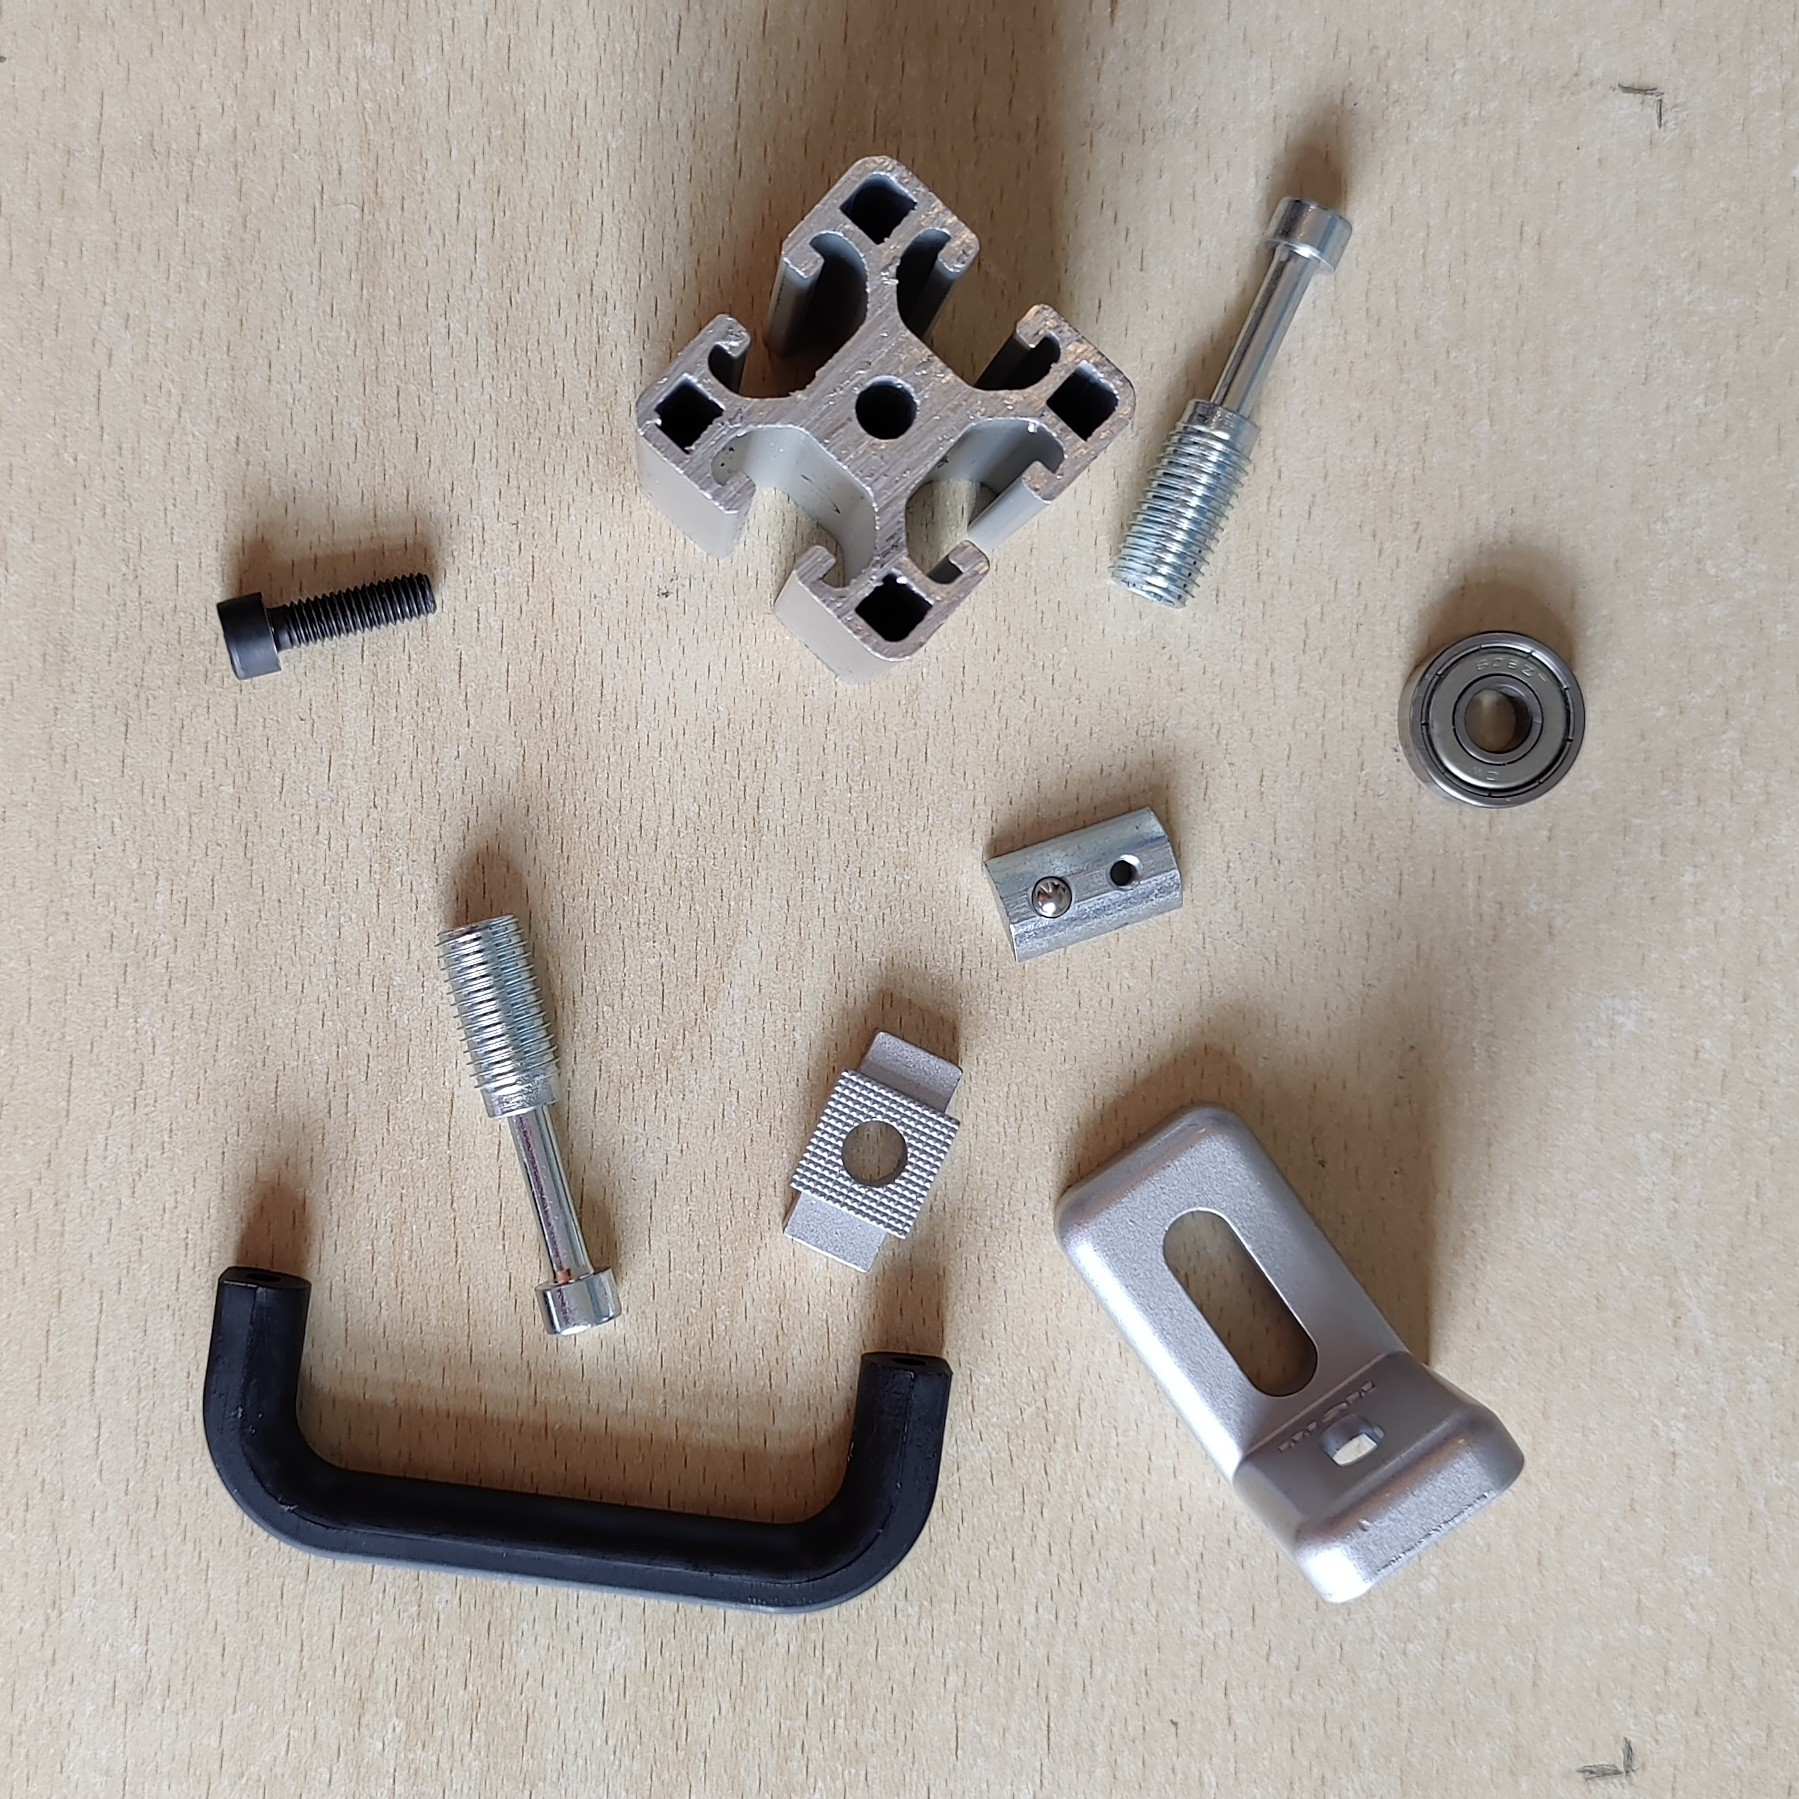Aluminium Extension: (633, 153, 1137, 689)
Ball Bearing: (1397, 629, 1590, 811)
Multiwinkel: (1051, 1102, 1529, 1608)
Pull Handle: (201, 1265, 952, 1618)
Shoulder Socket Head Cap Screw: (1105, 193, 1357, 613), (432, 908, 623, 1338)
Socket Head Cap Screw: (216, 567, 438, 680)
T Nut Square: (779, 1030, 969, 1277)
T Spring Nut: (980, 802, 1188, 967)
